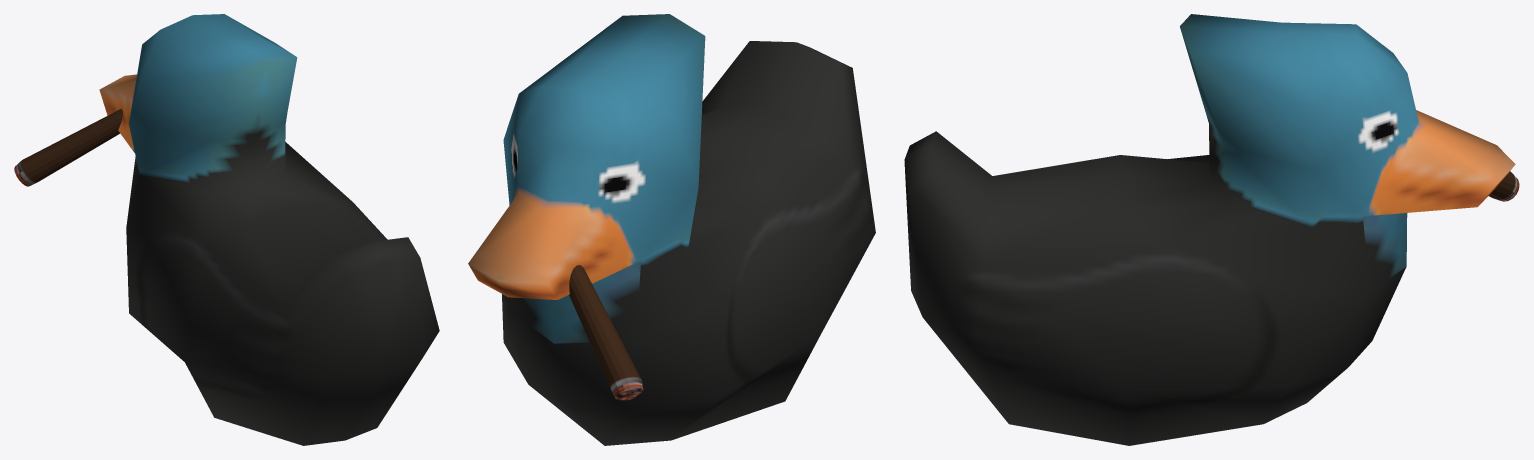
File: duck_kit.FBX
The picture shows the model from 3 angles, left to right: view 1: azimuth 30°, elevation 25°; view 2: azimuth 150°, elevation 25°; view 3: azimuth 270°, elevation 25°; orthographic projection. The views are drawn at different scales.
Visible parts, largest first — view 1: kit; view 2: kit; view 3: kit.
Part boxes in pixels (bbox=[...]): kit: bbox=[14, 14, 439, 445]; kit: bbox=[468, 14, 875, 445]; kit: bbox=[904, 14, 1519, 445].
Size of the model in its own units: 0.1153 by 0.1614 by 0.2388.
